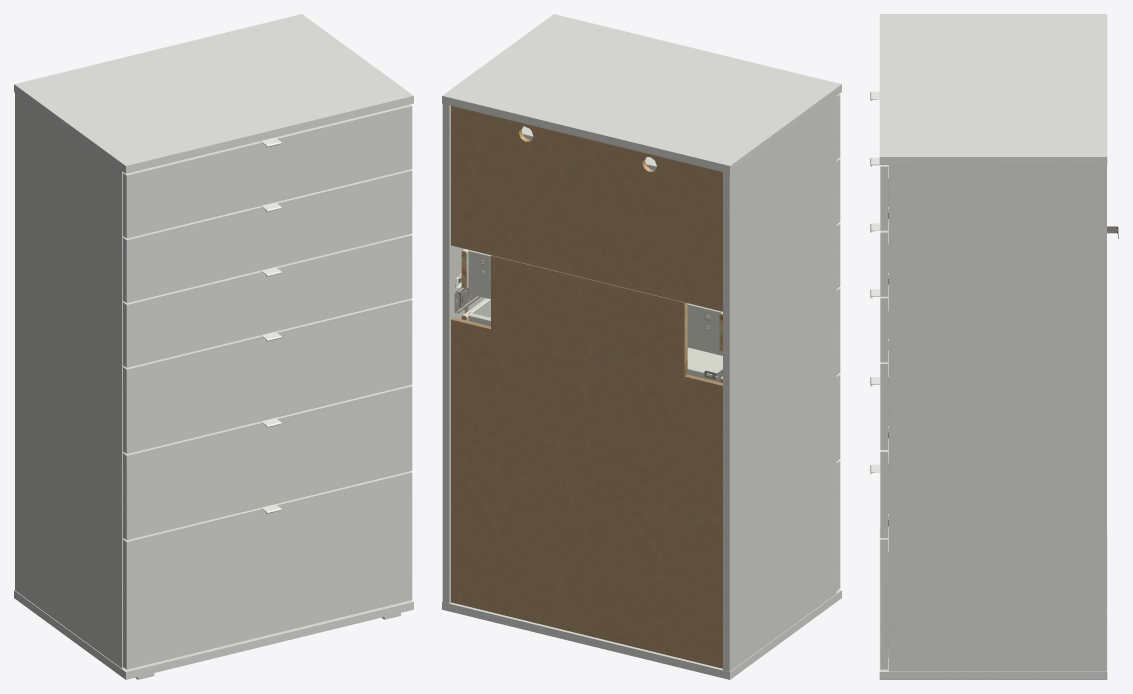
The model's file is VIHALS 6-drawer dresser.glb.
The picture shows the model from 3 angles, left to right: view 1: azimuth 30°, elevation 25°; view 2: azimuth 150°, elevation 25°; view 3: azimuth 270°, elevation 25°; orthographic projection.
Parts seen in each view (by area): view 1: 100 pqpm; view 2: 100 pqpm; view 3: 100 pqpm.
Part boxes in pixels (bbox=[...]): 100 pqpm: bbox=[14, 14, 413, 679]; 100 pqpm: bbox=[442, 14, 841, 679]; 100 pqpm: bbox=[870, 14, 1118, 679].
Size of the model in its own units: 0.699 by 1.2 by 0.5127.
1 material, 1 textured.
